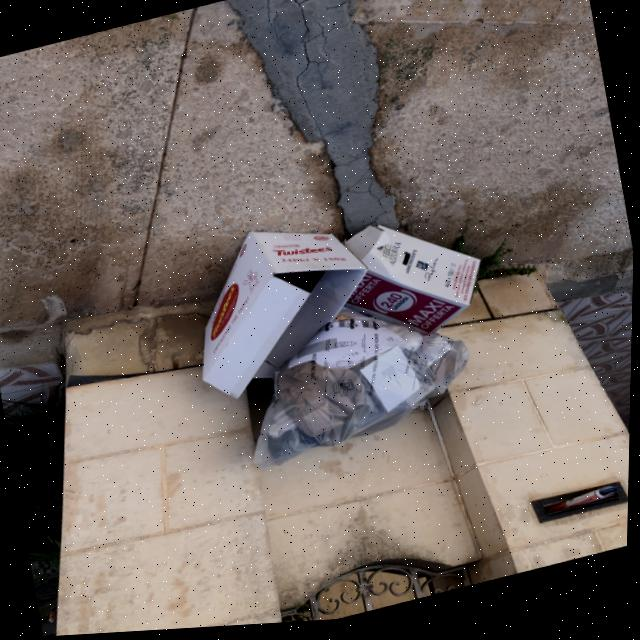Other: (177, 207, 388, 411), (331, 205, 495, 358)
Recycled Waste -Grey or Green Bag-: (229, 284, 484, 477)
